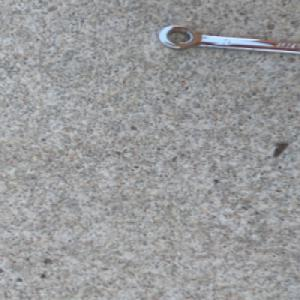Wrench: (155, 22, 300, 55)
